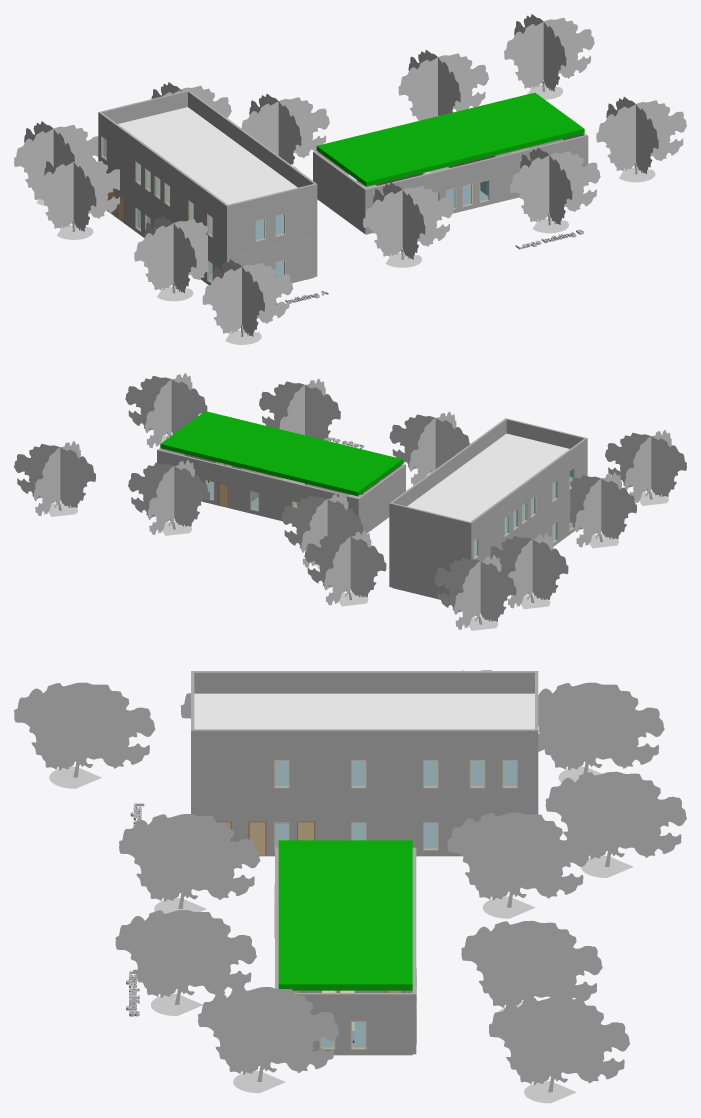
File: LargeBuilding.glb
3 views of the same model, one above another, from view 1: azimuth 30°, elevation 25°; view 2: azimuth 150°, elevation 25°; view 3: azimuth 270°, elevation 25° (orthographic). The views are drawn at different scales.
Visible parts, largest first — view 1: product-a685f088-858b-4e1a-91ac-d6a90031873a-body, product-a685f088-858b-4e1a-91ac-d6ab00318425-body, product-a685f088-858b-4e1a-91ac-d6ab00318221-body, product-a685f088-858b-4e1a-91ac-d6ab00319d08-body, product-a685f088-858b-4e1a-91ac-d6ab00319ba7-body, product-a685f088-858b-4e1a-91ac-d6ab00319a6c-body, product-a685f088-858b-4e1a-91ac-d6ab00319a5d-body, product-a685f088-858b-4e1a-91ac-d6ab00319bfe-body, product-a685f088-858b-4e1a-91ac-d6ab00319af7-body, product-a685f088-858b-4e1a-91ac-d6ab00319a1e-body, product-a685f088-858b-4e1a-91ac-d6ab003184a7-body, product-a685f088-858b-4e1a-91ac-d6ab00319b0d-body (+11 smaller); view 2: product-a685f088-858b-4e1a-91ac-d6a90031873a-body, product-a685f088-858b-4e1a-91ac-d6ab00318425-body, product-a685f088-858b-4e1a-91ac-d6ab00318221-body, product-a685f088-858b-4e1a-91ac-d6ab003184a0-body, product-a685f088-858b-4e1a-91ac-d6ab00319ab8-body, product-a685f088-858b-4e1a-91ac-d6ab00319b0d-body, product-a685f088-858b-4e1a-91ac-d6ab00319a95-body, product-a685f088-858b-4e1a-91ac-d6ab00319bfe-body, product-a685f088-858b-4e1a-91ac-d6ab00319d08-body, product-a685f088-858b-4e1a-91ac-d6ab00319a1e-body, product-a685f088-858b-4e1a-91ac-d6ab00319af7-body, product-a685f088-858b-4e1a-91ac-d6ab00319ba7-body (+10 smaller); view 3: product-a685f088-858b-4e1a-91ac-d6a90031873a-body, product-a685f088-858b-4e1a-91ac-d6ab00318222-body, product-a685f088-858b-4e1a-91ac-d6ab00318425-body, product-a685f088-858b-4e1a-91ac-d6ab00318a4f-body, product-a685f088-858b-4e1a-91ac-d6ab00319b44-body, product-a685f088-858b-4e1a-91ac-d6ab00319d08-body, product-a685f088-858b-4e1a-91ac-d6ab00319bfe-body, product-a685f088-858b-4e1a-91ac-d6ab00319ba7-body, product-a685f088-858b-4e1a-91ac-d6ab00319a6c-body, product-a685f088-858b-4e1a-91ac-d6ab00319a95-body, product-a685f088-858b-4e1a-91ac-d6ab00319a5d-body, product-a685f088-858b-4e1a-91ac-d6ab00319ab8-body (+6 smaller).
Part boxes in pixels (x1,y1,x2,y2): product-a685f088-858b-4e1a-91ac-d6a90031873a-body: [316, 92, 584, 186]; product-a685f088-858b-4e1a-91ac-d6ab00318425-body: [118, 107, 297, 204]; product-a685f088-858b-4e1a-91ac-d6ab00318221-body: [98, 111, 227, 250]; product-a685f088-858b-4e1a-91ac-d6ab00319d08-body: [202, 259, 293, 344]; product-a685f088-858b-4e1a-91ac-d6ab00319ba7-body: [596, 97, 686, 182]; product-a685f088-858b-4e1a-91ac-d6ab00319a6c-body: [510, 147, 600, 233]; product-a685f088-858b-4e1a-91ac-d6ab00319a5d-body: [363, 182, 453, 267]; product-a685f088-858b-4e1a-91ac-d6ab00319bfe-body: [504, 14, 594, 99]; product-a685f088-858b-4e1a-91ac-d6ab00319af7-body: [34, 154, 119, 239]; product-a685f088-858b-4e1a-91ac-d6ab00319a1e-body: [134, 216, 212, 301]; product-a685f088-858b-4e1a-91ac-d6ab003184a7-body: [364, 135, 585, 234]; product-a685f088-858b-4e1a-91ac-d6ab00319b0d-body: [398, 50, 488, 120]; product-a685f088-858b-4e1a-91ac-d6a90031873a-body: [160, 411, 402, 496]; product-a685f088-858b-4e1a-91ac-d6ab00318425-body: [407, 433, 569, 521]; product-a685f088-858b-4e1a-91ac-d6ab00318221-body: [469, 438, 586, 559]; product-a685f088-858b-4e1a-91ac-d6ab003184a0-body: [159, 449, 359, 535]; product-a685f088-858b-4e1a-91ac-d6ab00319ab8-body: [434, 555, 516, 630]; product-a685f088-858b-4e1a-91ac-d6ab00319b0d-body: [128, 460, 209, 535]; product-a685f088-858b-4e1a-91ac-d6ab00319a95-body: [304, 530, 386, 606]; product-a685f088-858b-4e1a-91ac-d6ab00319bfe-body: [14, 441, 95, 516]; product-a685f088-858b-4e1a-91ac-d6ab00319d08-body: [605, 430, 686, 505]; product-a685f088-858b-4e1a-91ac-d6ab00319a1e-body: [569, 472, 636, 548]; product-a685f088-858b-4e1a-91ac-d6ab00319af7-body: [490, 533, 568, 609]; product-a685f088-858b-4e1a-91ac-d6ab00319ba7-body: [125, 373, 207, 447]; product-a685f088-858b-4e1a-91ac-d6a90031873a-body: [278, 840, 412, 990]; product-a685f088-858b-4e1a-91ac-d6ab00318222-body: [194, 729, 538, 792]; product-a685f088-858b-4e1a-91ac-d6ab00318425-body: [194, 693, 534, 729]; product-a685f088-858b-4e1a-91ac-d6ab00318a4f-body: [194, 795, 538, 855]; product-a685f088-858b-4e1a-91ac-d6ab00319b44-body: [447, 812, 588, 918]; product-a685f088-858b-4e1a-91ac-d6ab00319d08-body: [14, 682, 155, 788]; product-a685f088-858b-4e1a-91ac-d6ab00319bfe-body: [489, 997, 630, 1103]; product-a685f088-858b-4e1a-91ac-d6ab00319ba7-body: [198, 987, 339, 1093]; product-a685f088-858b-4e1a-91ac-d6ab00319a6c-body: [115, 910, 256, 1016]; product-a685f088-858b-4e1a-91ac-d6ab00319a95-body: [545, 771, 686, 877]; product-a685f088-858b-4e1a-91ac-d6ab00319a5d-body: [119, 814, 260, 913]; product-a685f088-858b-4e1a-91ac-d6ab00319ab8-body: [538, 682, 664, 782].
Bounding box in the file's own units: 53.19 × 8.15 × 39.12.
